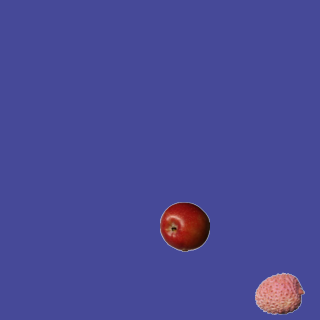Apple Braeburn: (159, 201, 209, 251)
Lychee: (254, 268, 304, 318)
